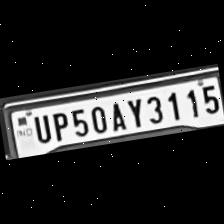0: (86, 101, 110, 135)
1: (178, 86, 201, 120), (162, 88, 184, 122)
3: (141, 92, 165, 126)
5: (196, 80, 222, 117), (65, 104, 90, 138)
A: (105, 99, 128, 132)
P: (47, 109, 70, 142)
U: (28, 112, 52, 146)
Y: (123, 96, 146, 130)
